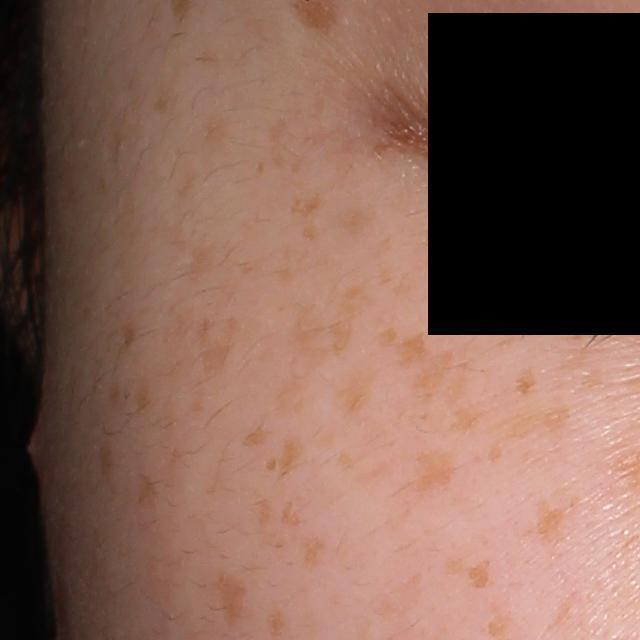melasma: (286, 297, 353, 356), (211, 571, 251, 630), (122, 467, 164, 520), (198, 333, 242, 383), (386, 331, 436, 371), (411, 450, 457, 492), (269, 429, 307, 475), (532, 501, 568, 545), (462, 560, 500, 600), (250, 486, 277, 532), (278, 497, 308, 533), (299, 534, 327, 572), (505, 367, 536, 401), (286, 197, 320, 228), (130, 386, 159, 415)
